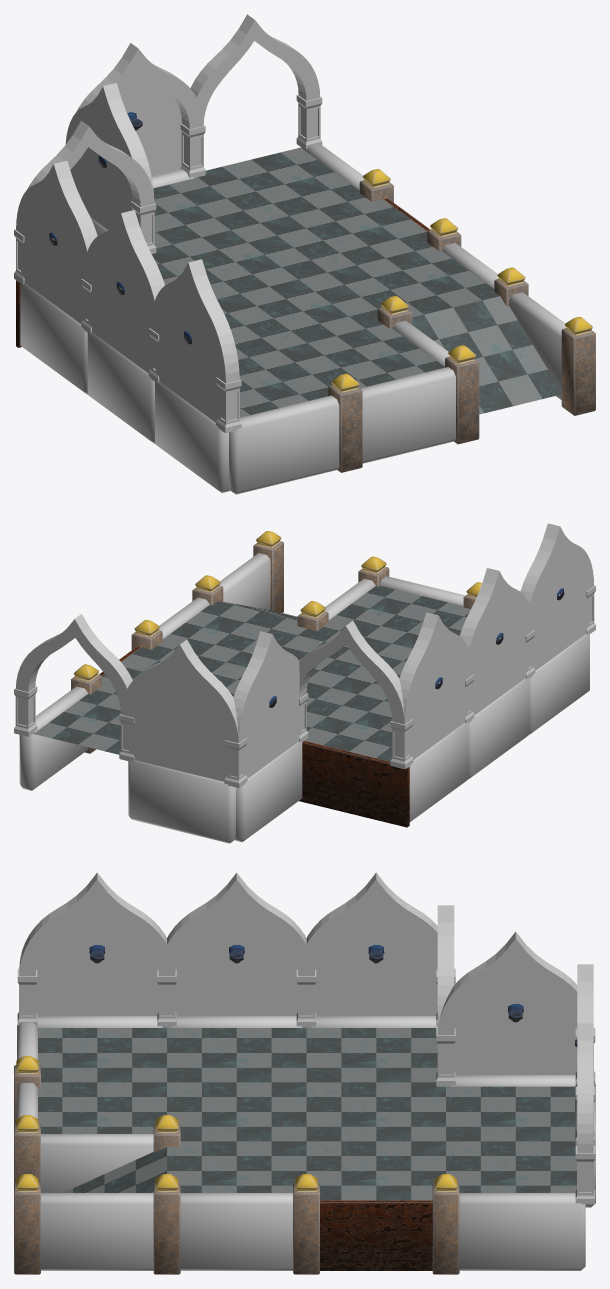
The model's file is SalleEnigme.fbx.
3 renders of one model, top to bottom at view 1: azimuth 30°, elevation 25°; view 2: azimuth 150°, elevation 25°; view 3: azimuth 270°, elevation 25°, orthographic. The views are drawn at different scales.
Visible parts, largest first — view 1: Plane.006, Cube.016, Plane.003, Plane.008, Cube.015, Plane.007, Plane.009, Plane.015, Plane.002, Plane.016, Plane.014, PillierBase.001 (+26 smaller); view 2: Plane.012, Plane.034, Cube.018, Plane.015, Plane.014, Plane.016, Plane.013, Plane.002, PillierBase.001, Plane, Cube.008, Pilliers (+25 smaller); view 3: Plane.016, Plane.014, Plane.015, Plane.013, Cube.009, Cube.012, Cube.013, Plane.009, Plane.003, Plane.011, Plane.008, Plane.004 (+28 smaller).
Part boxes in pixels (x1,y1,x2,y2): Plane.006: (412, 296, 561, 414); Cube.016: (229, 395, 339, 494); Plane.003: (217, 272, 383, 349); Plane.008: (260, 197, 432, 272); Cube.015: (360, 367, 455, 463); Plane.007: (198, 147, 364, 222); Plane.009: (152, 223, 326, 299); Plane.015: (88, 217, 153, 373); Plane.002: (328, 246, 499, 317); Plane.016: (156, 266, 220, 422); Plane.014: (21, 168, 85, 323); PillierBase.001: (180, 14, 322, 177); Plane.012: (129, 648, 230, 781); Plane.034: (299, 740, 409, 827); Cube.018: (128, 760, 235, 843); Plane.015: (470, 574, 528, 715); Plane.014: (409, 619, 467, 759); Plane.016: (531, 530, 589, 670); Plane.013: (243, 638, 301, 778); Plane.002: (157, 601, 306, 667); PillierBase.001: (14, 614, 134, 761); Plane: (323, 585, 470, 648); Cube.008: (234, 741, 302, 842); Pilliers: (299, 621, 413, 768); Plane.016: (36, 900, 158, 1015); Plane.014: (315, 900, 437, 1015); Plane.015: (175, 900, 297, 1015); Plane.013: (454, 959, 576, 1074); Cube.009: (459, 1193, 585, 1270); Cube.012: (180, 1193, 292, 1270); Cube.013: (41, 1193, 153, 1270); Plane.009: (306, 1082, 445, 1141); Plane.003: (167, 1082, 306, 1141); Plane.011: (320, 1200, 432, 1270); Plane.008: (306, 1141, 445, 1200); Plane.004: (167, 1027, 306, 1082).
Bounding box in the file's own units: 6344 × 3428 × 8344.
